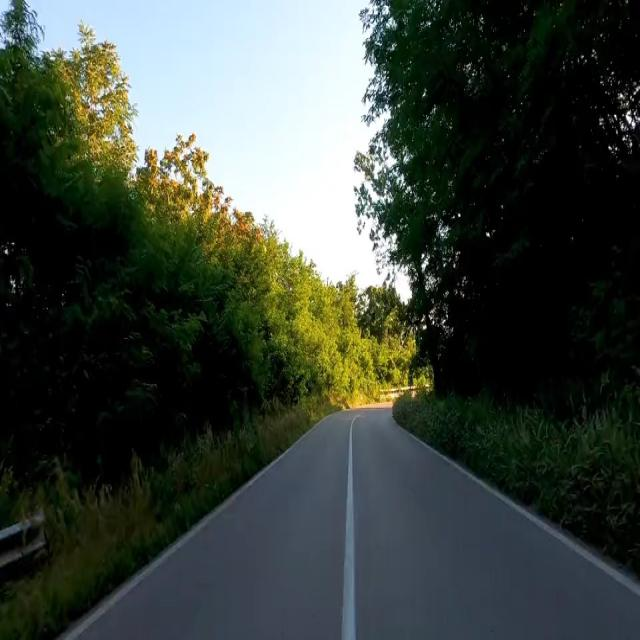lane: (64, 409, 639, 638), (341, 415, 357, 639)
road: (64, 409, 639, 638)
